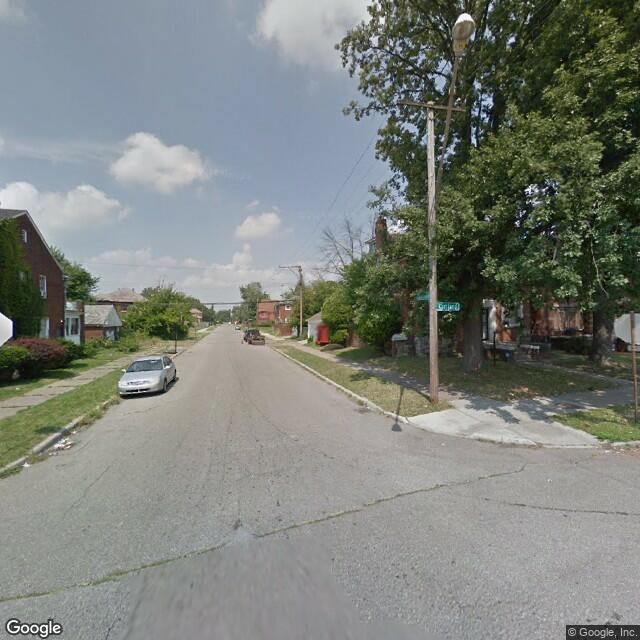litter: (52, 436, 78, 450), (613, 443, 637, 453), (20, 461, 34, 469)
